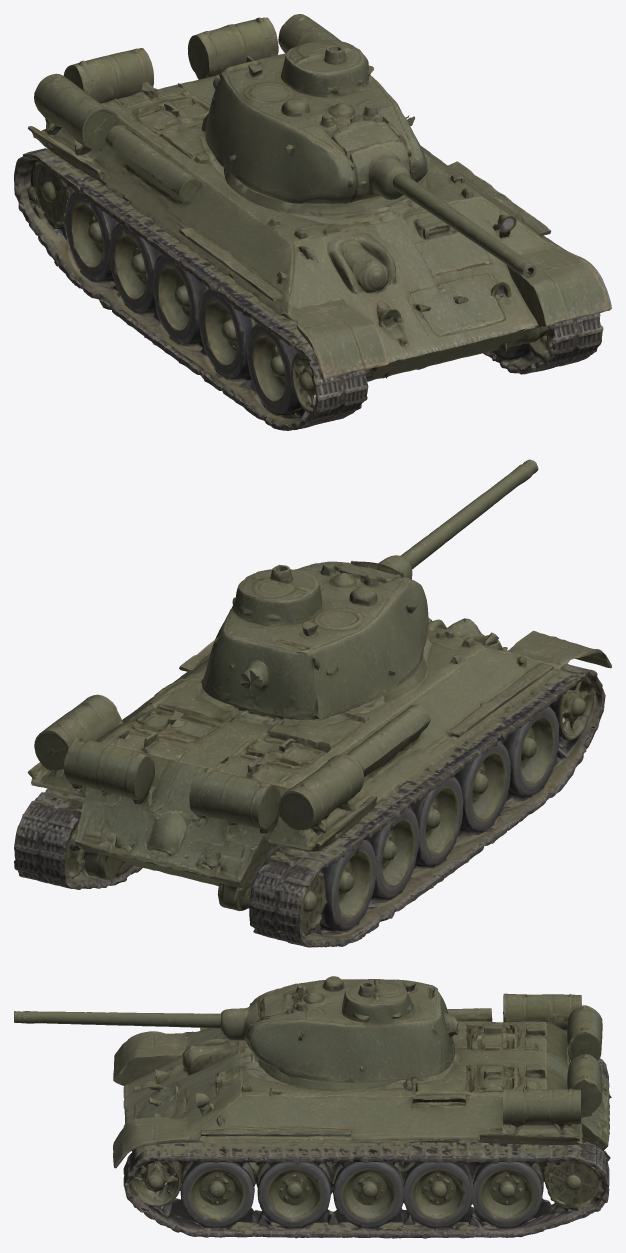
The picture shows the model from 3 angles, top to bottom: view 1: azimuth 30°, elevation 25°; view 2: azimuth 150°, elevation 25°; view 3: azimuth 270°, elevation 25°; orthographic projection. The views are drawn at different scales.
Visible parts, largest first — view 1: Hull, TrackR, Turret, TrackL, Gun; view 2: Hull, TrackR, Turret, TrackL, Gun; view 3: Hull, TrackL, Turret, Gun.
Part boxes in pixels (x1,y1,x2,y2): Hull: (28,14,606,381); TrackR: (14,148,378,430); Turret: (201,40,427,204); TrackL: (483,290,611,374); Gun: (347,154,536,278); Hull: (27,618,605,910); TrackR: (249,653,611,947); Turret: (202,561,428,720); TrackL: (14,789,142,889); Gun: (378,459,538,579); Hull: (113,993,611,1167); TrackL: (113,1132,609,1238); Turret: (247,976,458,1082); Gun: (14,1007,247,1044).
Size of the model in its own units: 287 by 245 by 634.
1 material, 1 textured.
